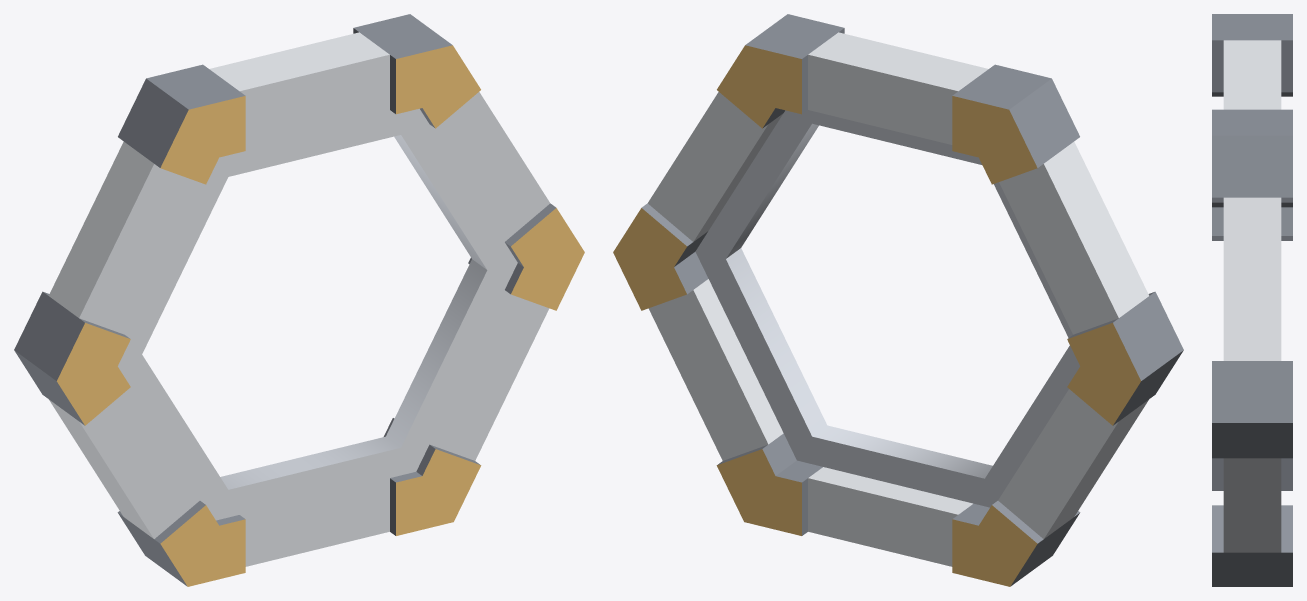
Rendered from Checkpoint.glb.
The picture shows the model from 3 angles, left to right: view 1: azimuth 30°, elevation 25°; view 2: azimuth 150°, elevation 25°; view 3: azimuth 270°, elevation 25°; orthographic projection. The views are drawn at different scales.
Visible parts, largest first — view 1: gate_complex; view 2: gate_complex; view 3: gate_complex.
Part boxes in pixels (x1=…): gate_complex: x1=14, y1=14, x2=584, y2=586; gate_complex: x1=613, y1=14, x2=1183, y2=586; gate_complex: x1=1212, y1=14, x2=1292, y2=586.
Bounding box in the file's own units: 1 × 0.863 × 0.14.
